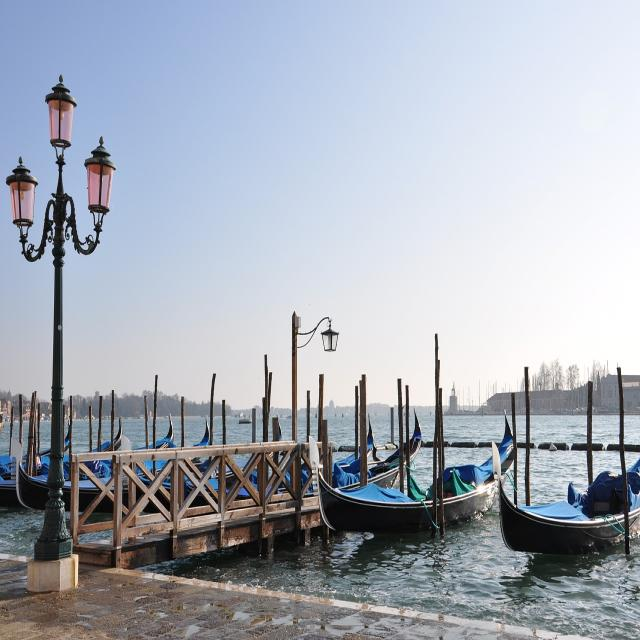boat: (296, 397, 522, 552), (477, 431, 640, 566)
